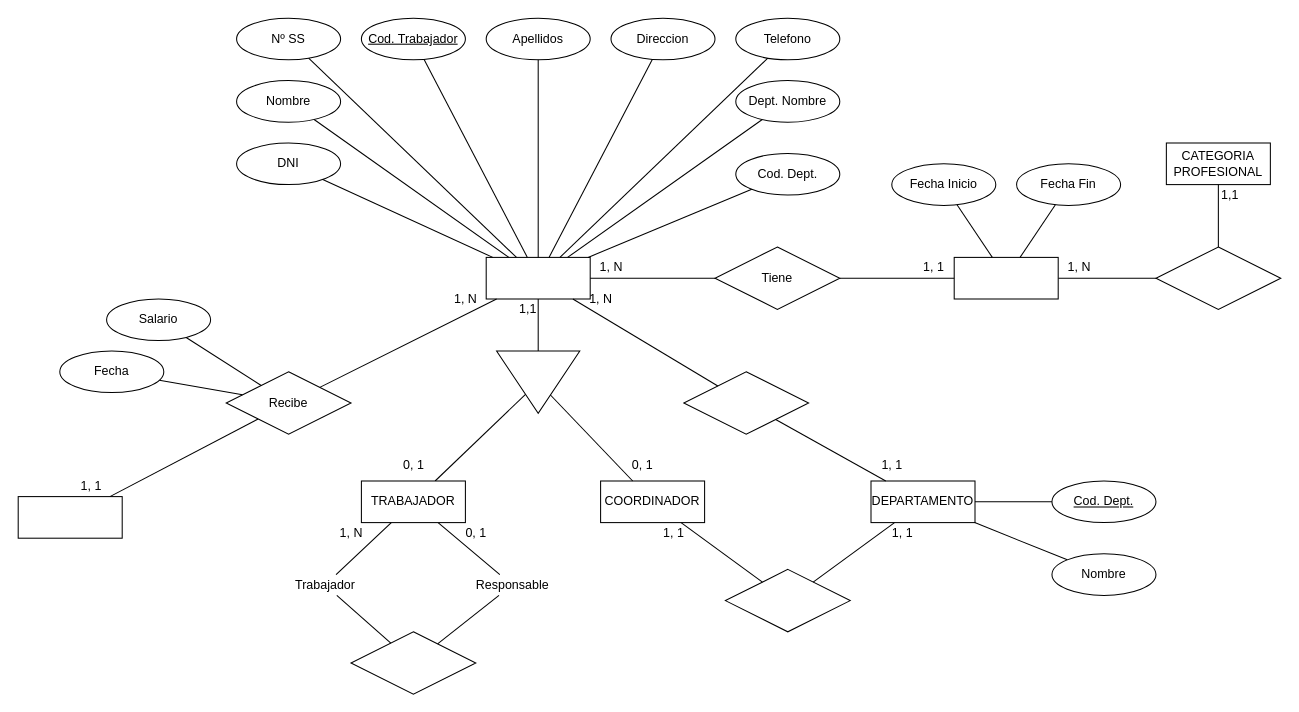
This 1299x712 diagram has some shape labels left out. The shapes that lost their labels are listed below. From the top down, each one's centre as x and y in pixels, then its label:
At [537,277]: "EMPLEADO".
At [1005,277]: "CONTRATO".
At [1218,277]: "De".
At [538,381]: "RELACION ISA EXCLUSIVA TOTAL".
At [746,402]: "Pertenece".
At [69,517]: "NOMINA".
At [787,600]: "Coordina".
At [413,662]: "Trabaja".
